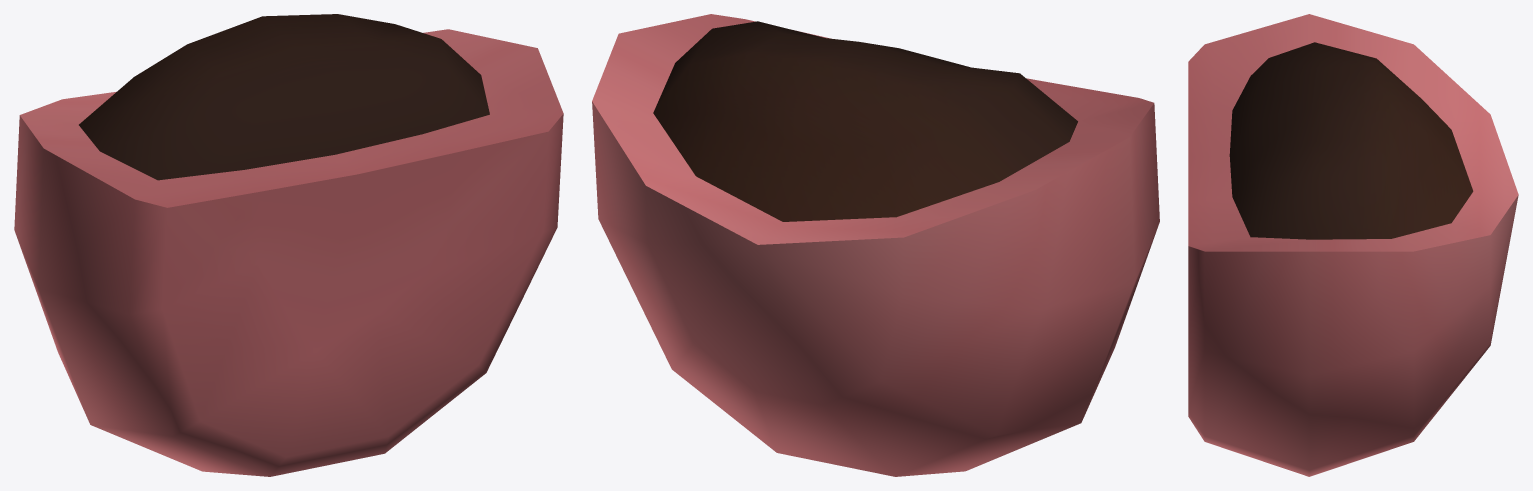
The model's file is Mochi.fbx.
The picture shows the model from 3 angles, left to right: view 1: azimuth 30°, elevation 25°; view 2: azimuth 150°, elevation 25°; view 3: azimuth 270°, elevation 25°; orthographic projection. The views are drawn at different scales.
Parts seen in each view (by area): view 1: Mochi; view 2: Mochi; view 3: Mochi.
Boxes of the visible parts, x1=… form: Mochi: x1=14, y1=14, x2=563, y2=476; Mochi: x1=592, y1=14, x2=1159, y2=476; Mochi: x1=1188, y1=14, x2=1518, y2=476.
Size of the model in its own units: 181 by 141 by 114.
